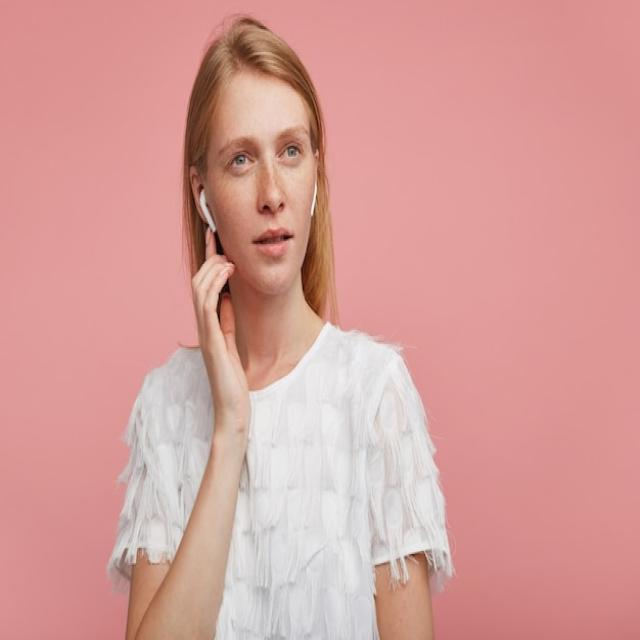airpods: (200, 188, 217, 235), (310, 182, 319, 220)
